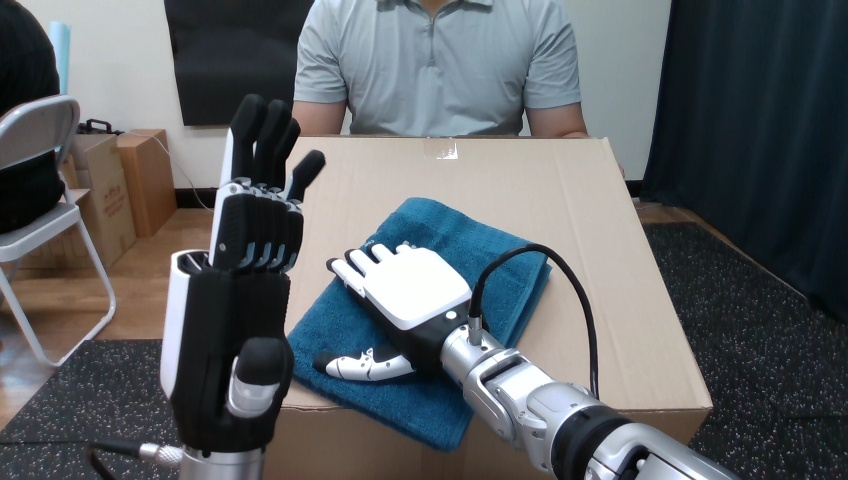left robot hand: (315, 244, 736, 479), (90, 94, 324, 478), (481, 250, 591, 389)
